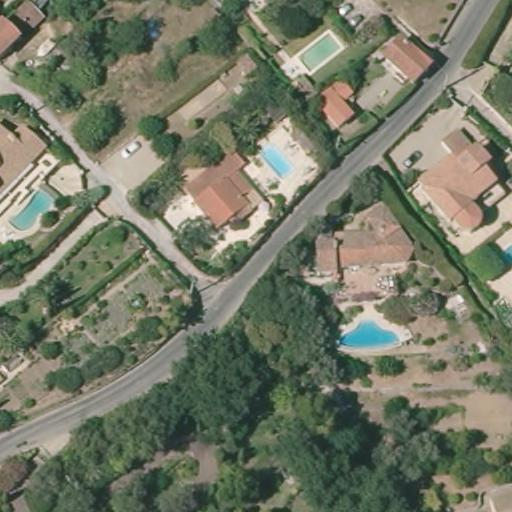pool: (333, 315, 402, 353), (294, 27, 344, 75), (12, 186, 55, 232), (257, 141, 297, 183)
